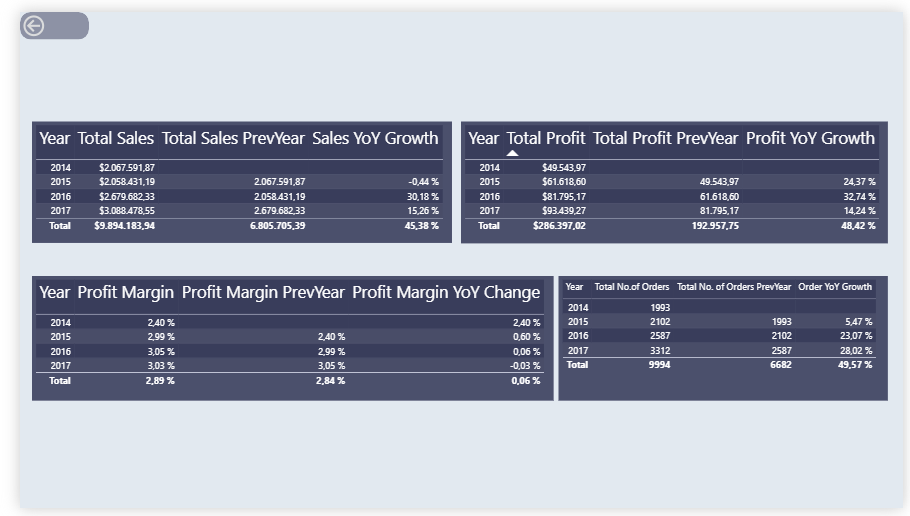

This screenshot's page, from the dashboard's own definition file:
{"tool":"powerbi","page":{"name":"Data Validation","canvas":[1280,720],"ordinal":3},"visuals":[{"type":"tableEx","fields":{"Values":["Dim_OrderDate.Year","_Measures.Total Sales","_Measures.Total Sales PrevYear","_Measures.Sales YoY Growth"]},"box":[17.3,158.7,609,176.1],"z":0},{"type":"tableEx","fields":{"Values":["Dim_OrderDate.Year","_Measures.Total Profit","_Measures.Total Profit PrevYear","_Measures.Profit YoY Growth"]},"box":[640,158.3,618.3,176.7],"z":1000},{"type":"tableEx","fields":{"Values":["Dim_OrderDate.Year","_Measures.Profit Margin","_Measures.Profit Margin PrevYear","_Measures.Profit Margin YoY Change"]},"box":[16.7,381.7,756.2,180.4],"z":2000},{"type":"tableEx","fields":{"Values":["Dim_OrderDate.Year","_Measures.Total No.of  Orders","_Measures.Total No. of Orders PrevYear","_Measures.Order YoY Growth"]},"box":[780,381.7,477.7,180.4],"z":3000},{"type":"actionButton","box":[0,0,100,40],"z":4000}]}

Visuals, with their boxes in screenshot pixels (x1, y1, x2, y2), scaled from the page's 1280x720 canvas onto the 910x516 screenshot:
tableEx - Dim_OrderDate.Year x _Measures.Total Sales: [12, 114, 445, 240]
tableEx - Dim_OrderDate.Year x _Measures.Total Profit: [455, 113, 895, 240]
tableEx - Dim_OrderDate.Year x _Measures.Profit Margin: [12, 274, 549, 403]
tableEx - Dim_OrderDate.Year x _Measures.Total No.of  Orders: [555, 274, 894, 403]
actionButton: [0, 0, 71, 29]
